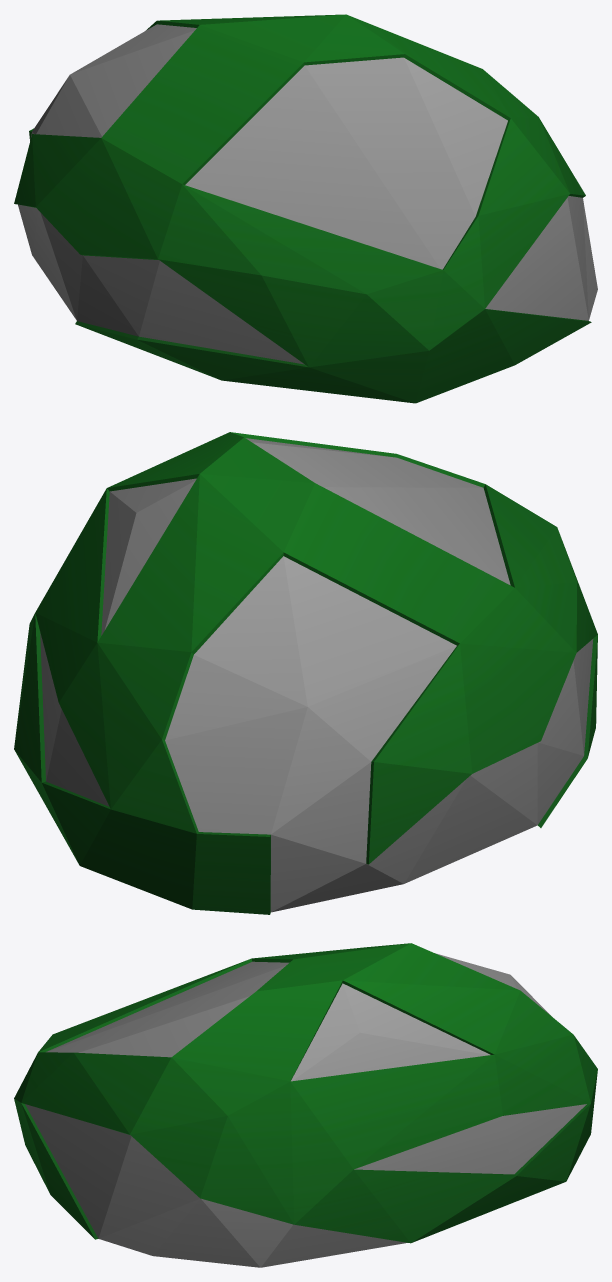
Rendered from Stone_average_01_mossy1.fbx.
3 views of the same model, one above another, from view 1: azimuth 30°, elevation 25°; view 2: azimuth 150°, elevation 25°; view 3: azimuth 270°, elevation 25° (orthographic). The views are drawn at different scales.
Visible parts, largest first — view 1: Stone_average_01_mossy; view 2: Stone_average_01_mossy; view 3: Stone_average_01_mossy.
Boxes of the visible parts, x1,y1,x2,y2 form: Stone_average_01_mossy: [14, 14, 597, 403]; Stone_average_01_mossy: [14, 432, 597, 914]; Stone_average_01_mossy: [14, 943, 597, 1267].
Bounding box in the file's own units: 185 × 92.14 × 229.
